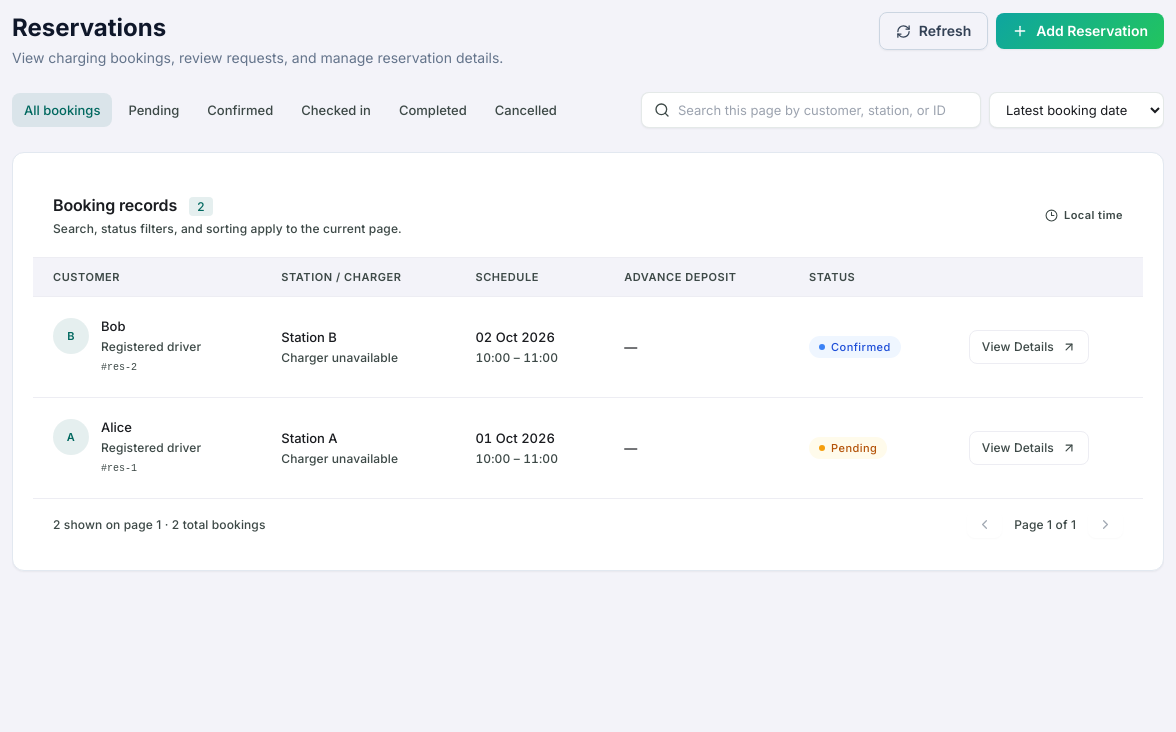
Test case: ReservationsPage › filters by booking status and can clear an empty filter result
Click the button "Pending": coordinates (154, 110) top-left (116, 93), bottom-right (191, 127)
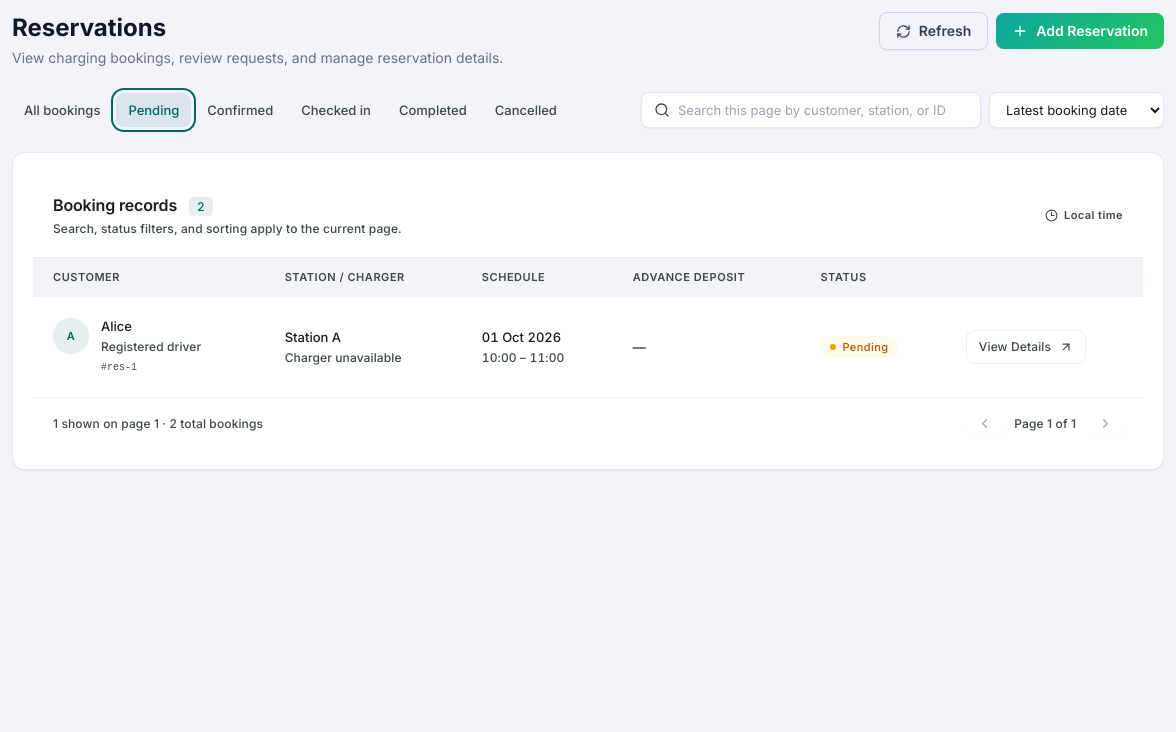
expect the text "Alice" is shown: met, box top-left (101, 318), bottom-right (132, 334)
expect the text "Bob" is gone: met
Click the button "Completed": coordinates (433, 110) top-left (387, 93), bottom-right (479, 127)
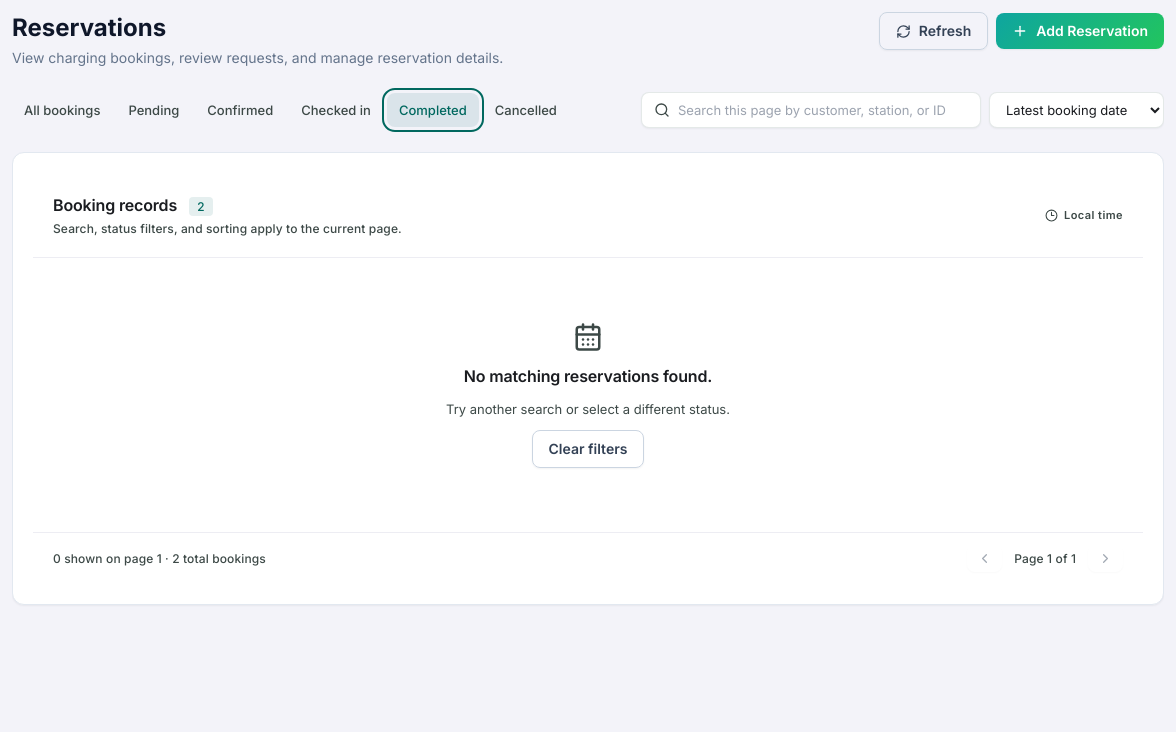
expect the heading "No matching reservations found." is shown: met, box top-left (464, 364), bottom-right (712, 388)
Click the button "Clear filters": coordinates (588, 449) top-left (532, 430), bottom-right (644, 468)
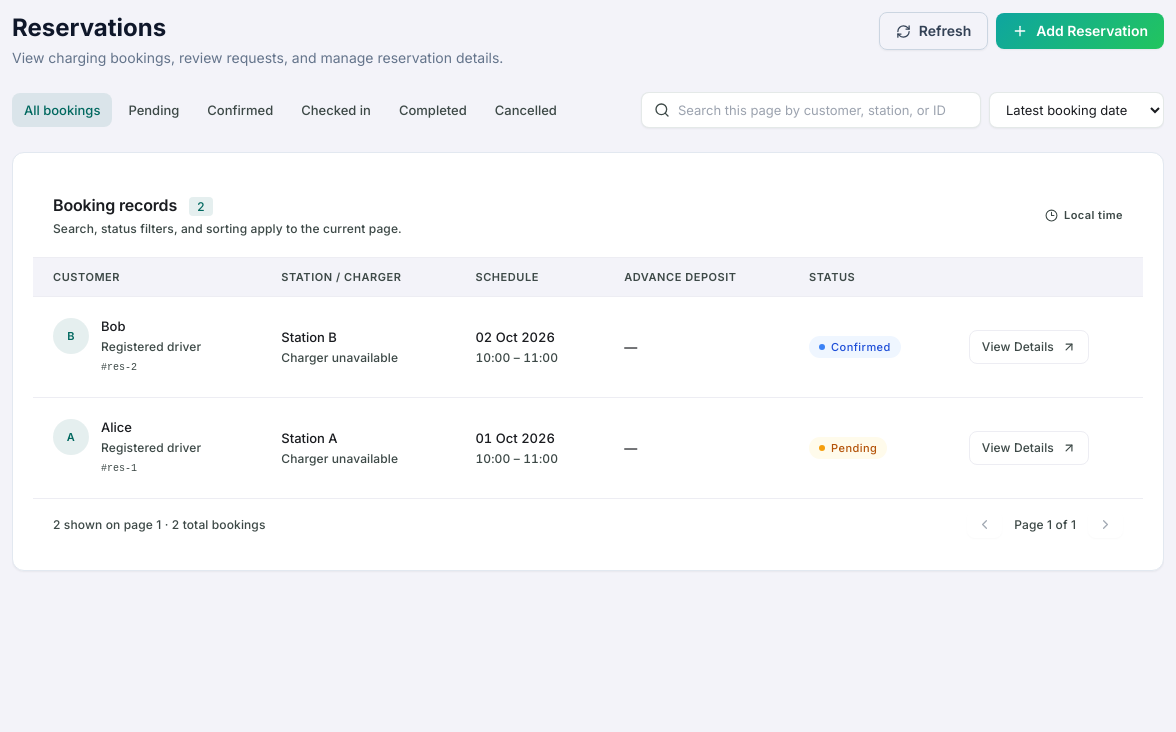
expect the text "Bob" is shown: met, box top-left (101, 318), bottom-right (125, 334)
